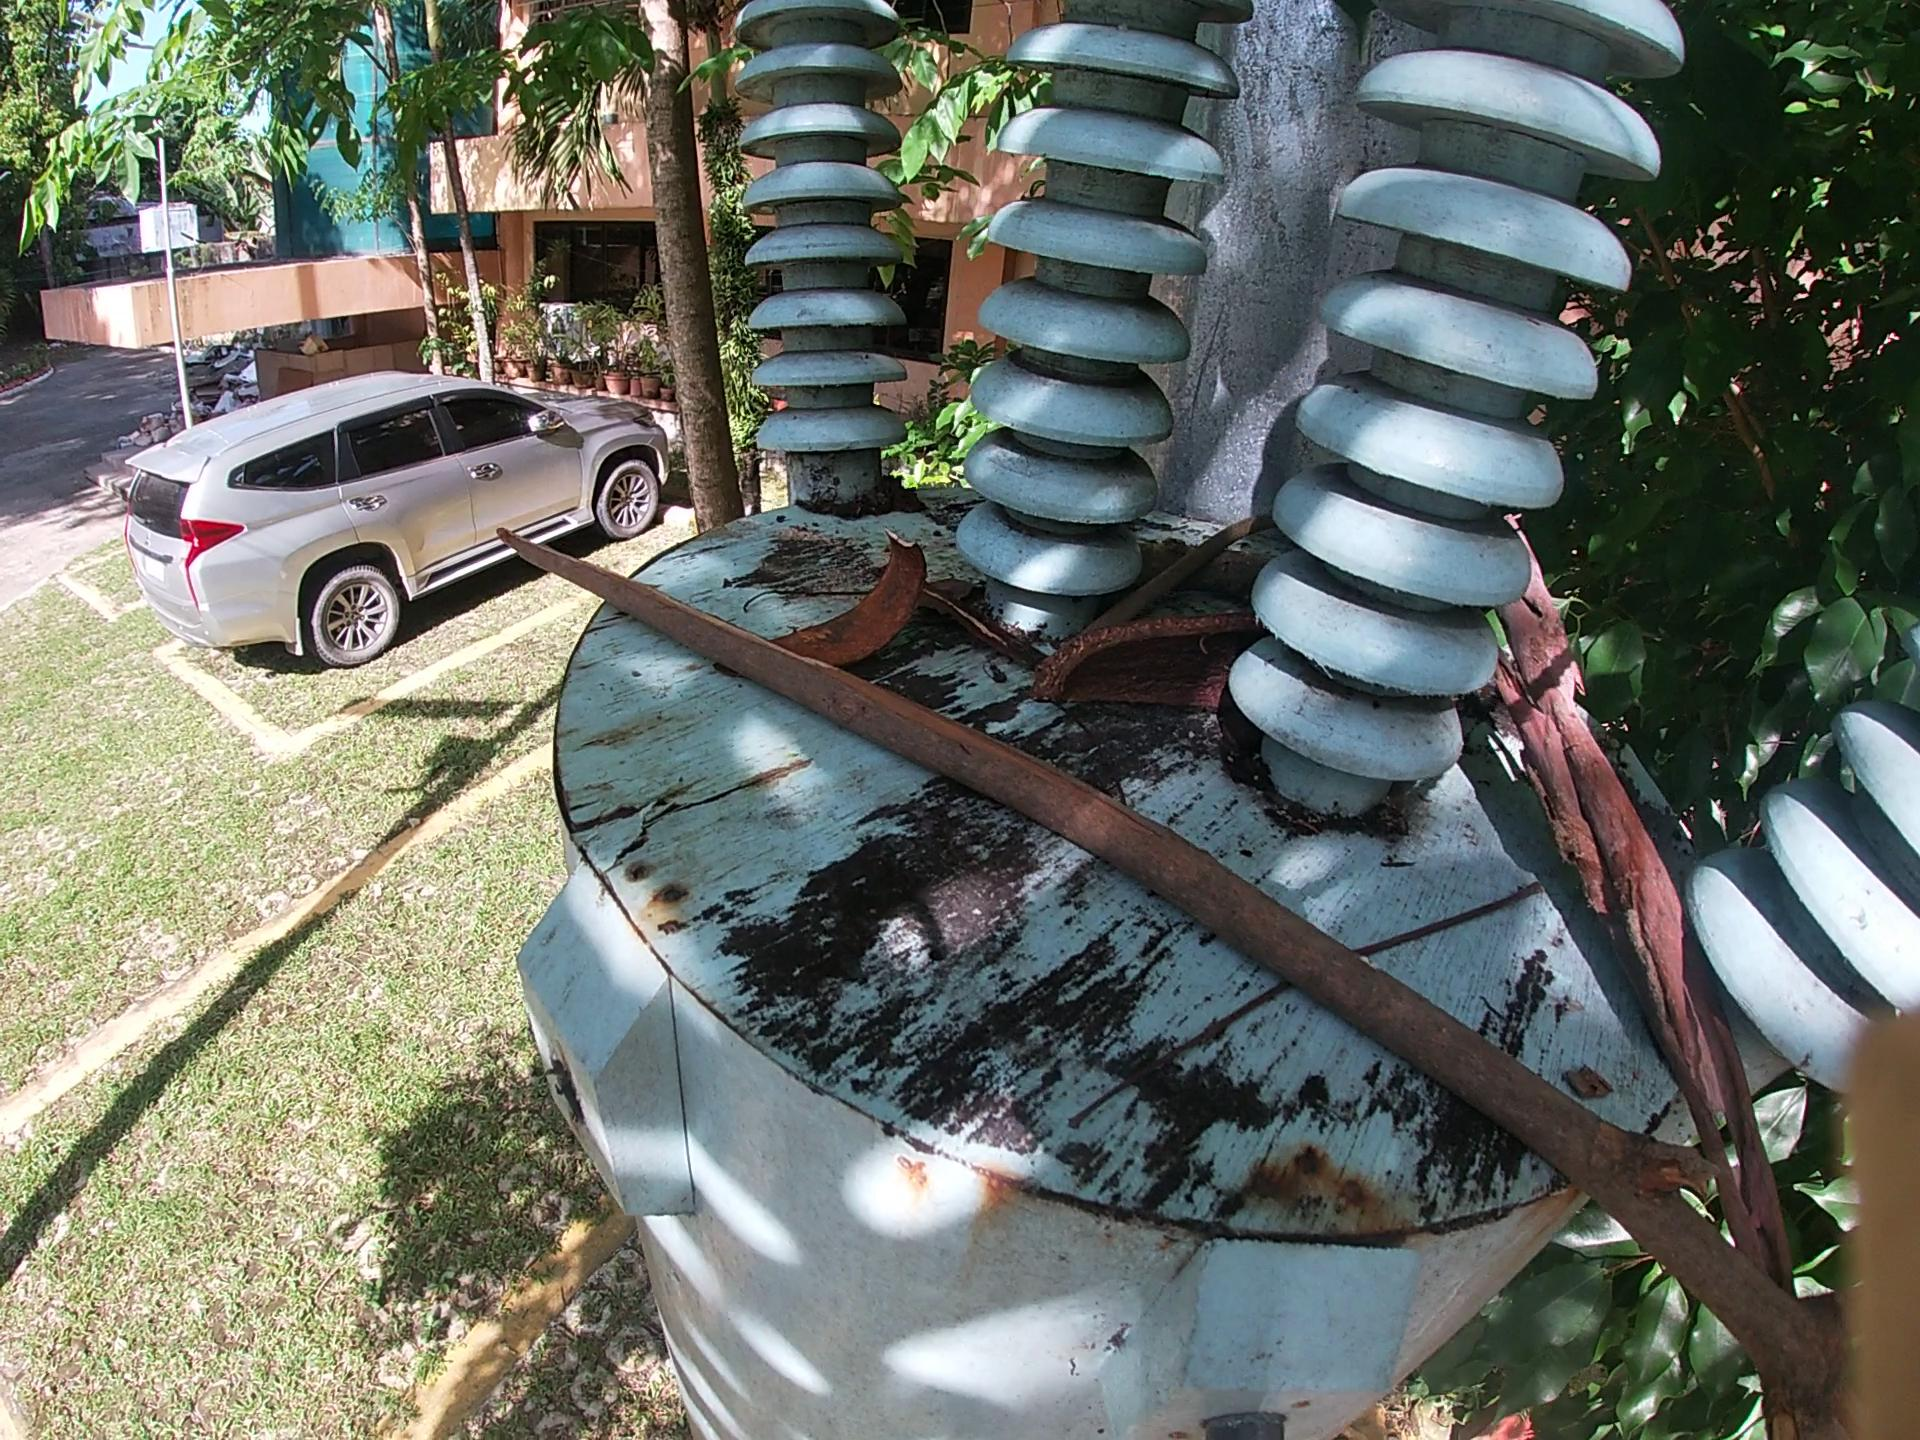mahogany fruit: (1022, 617, 1253, 743), (766, 523, 948, 646)
tree branch: (479, 516, 1869, 1404), (1503, 529, 1835, 1425), (1063, 874, 1544, 1131), (1076, 516, 1277, 629), (934, 576, 1030, 679), (721, 584, 862, 617), (1191, 551, 1271, 590)
